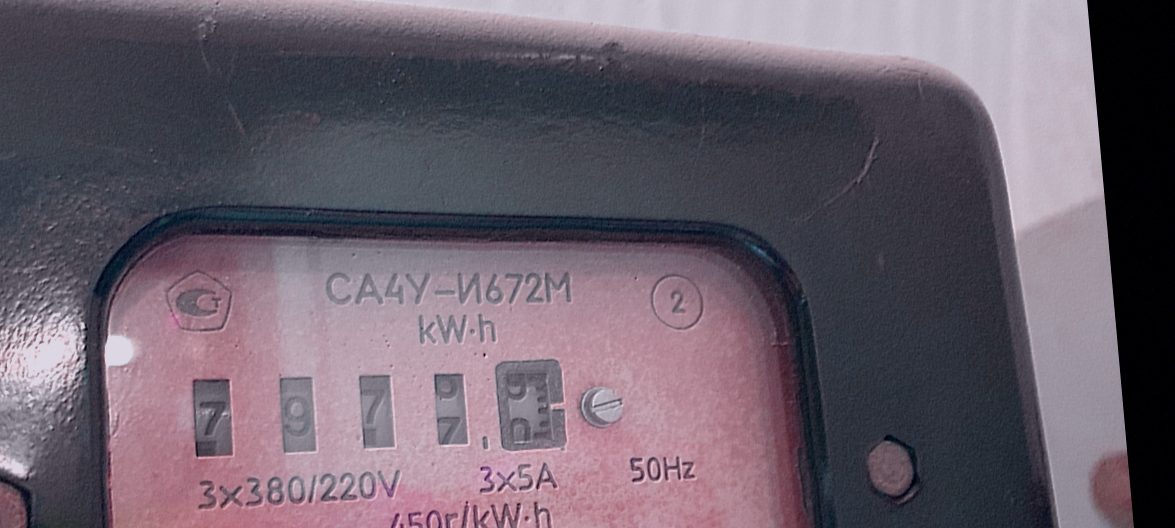0: (505, 414, 531, 445)
7: (192, 396, 230, 443), (432, 407, 465, 452), (357, 386, 389, 429)
9: (278, 393, 313, 443), (500, 370, 533, 405)
screen: (174, 335, 584, 496)
